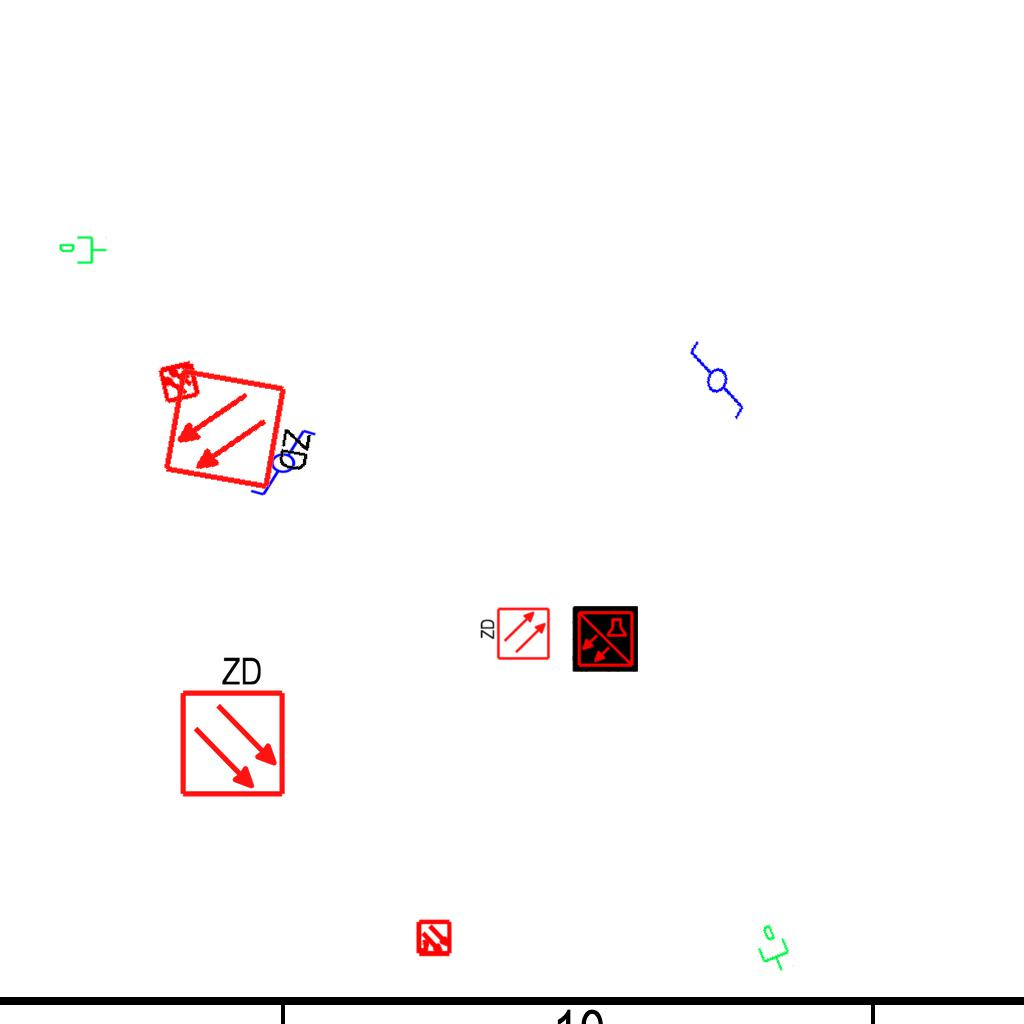Datenanschluss_einfach: (746, 919, 798, 979), (58, 234, 108, 268)
OKW_Multisensormelder_(Kombination_optischer_Rauch-Kahlenmonoxid_Waerme-Melder): (572, 606, 638, 672)
OT_Multisensormelder_(Kombination_RMO_WMD): (145, 347, 213, 415), (406, 911, 462, 967)
Wechselschalter: (670, 337, 760, 431), (240, 426, 318, 498)
ZD_Melder_in_Zwischendecke_mit_Revisionsoeffnung_mind_40_x_40_cm: (160, 361, 328, 500), (174, 650, 288, 799), (477, 606, 551, 663)
